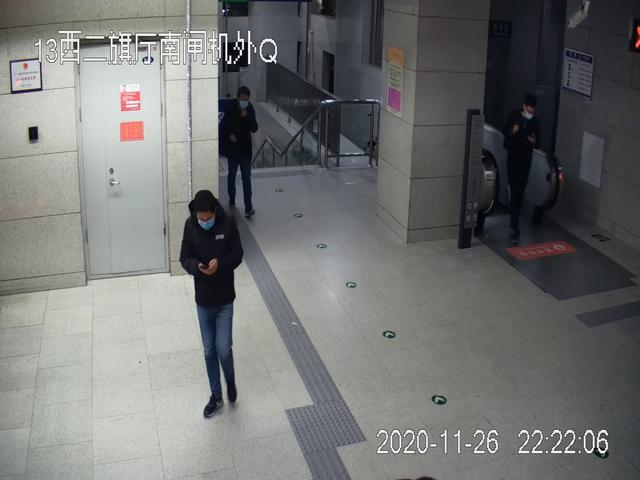person: (179, 189, 245, 419), (503, 93, 543, 232), (219, 86, 260, 216)
